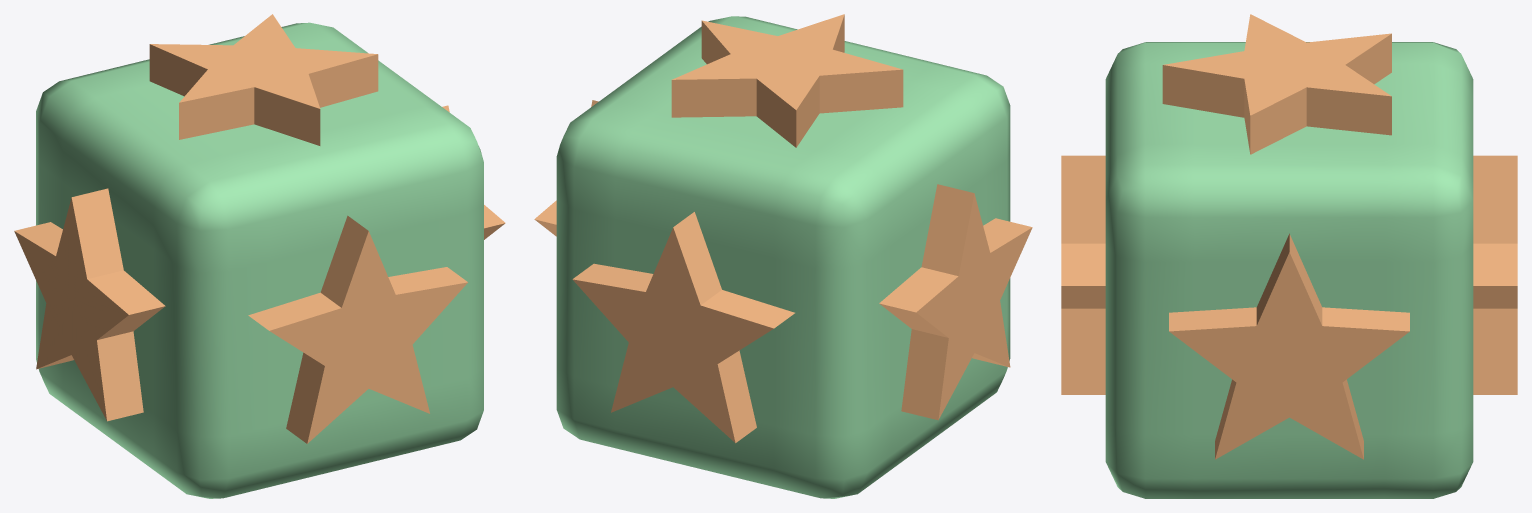
File: MessyMemoryBlock.glb
3 renders of one model, left to right at view 1: azimuth 30°, elevation 25°; view 2: azimuth 150°, elevation 25°; view 3: azimuth 270°, elevation 25°, orthographic. The views are drawn at different scales.
Visible parts, largest first — view 1: Block, Star; view 2: Block, Star; view 3: Block, Star.
Boxes of the visible parts, <box> form: Block: <box>36,22,483,498</box>; Star: <box>14,14,505,443</box>; Block: <box>556,16,1010,498</box>; Star: <box>534,14,1032,443</box>; Block: <box>1105,42,1473,498</box>; Star: <box>1061,14,1517,459</box>.
Bounding box in the file's own units: 1.8 × 1.62 × 1.8.
